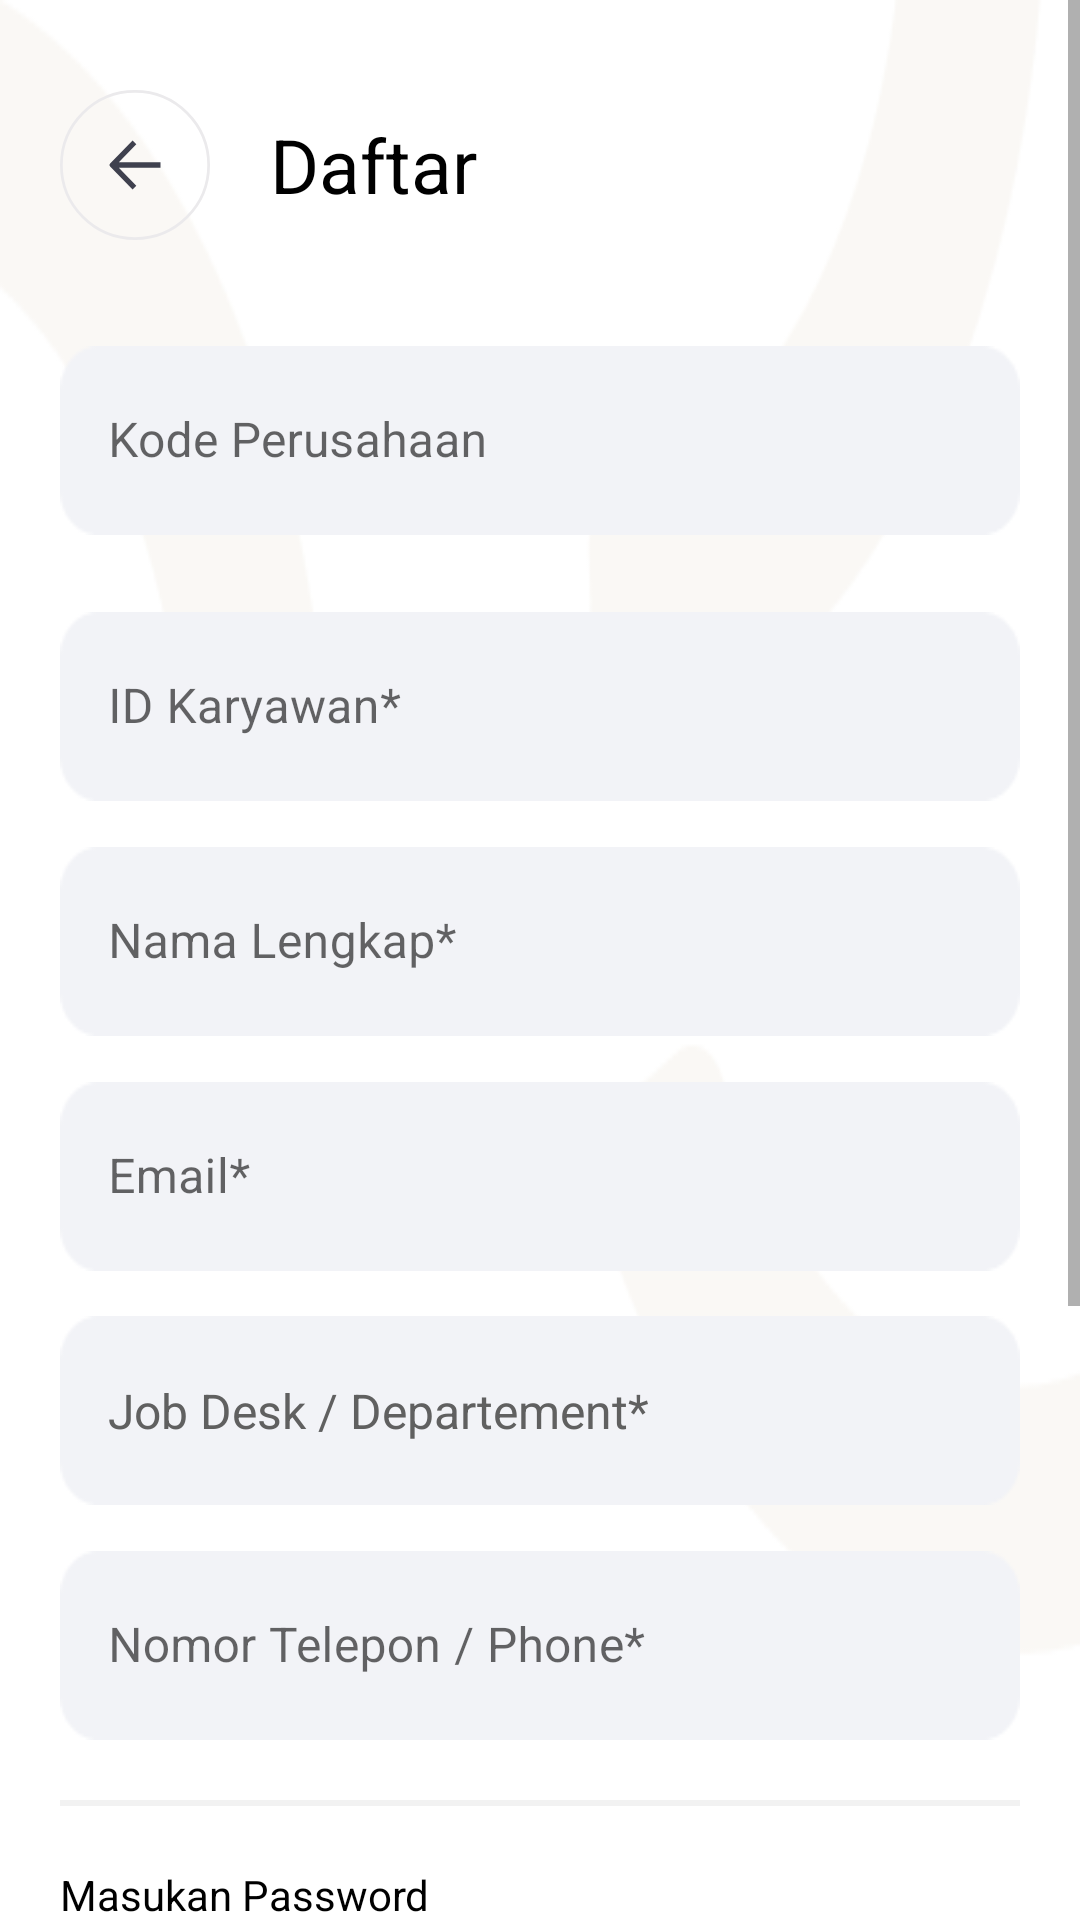

Named icons in this screenshot (1080px x 1920px) and their centers, (x,y):
back: (135,165)
